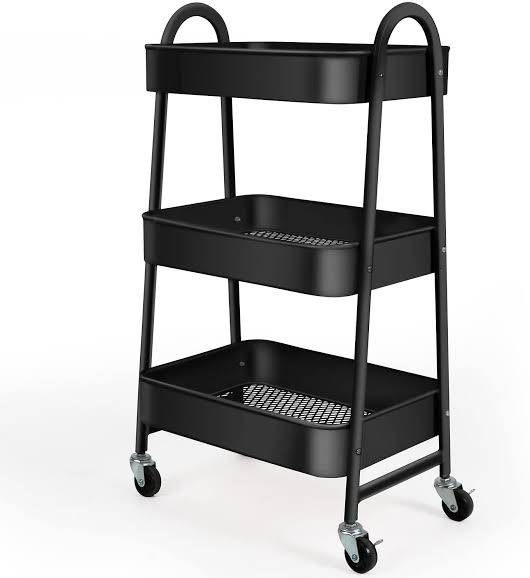Carts: (127, 1, 474, 573)
